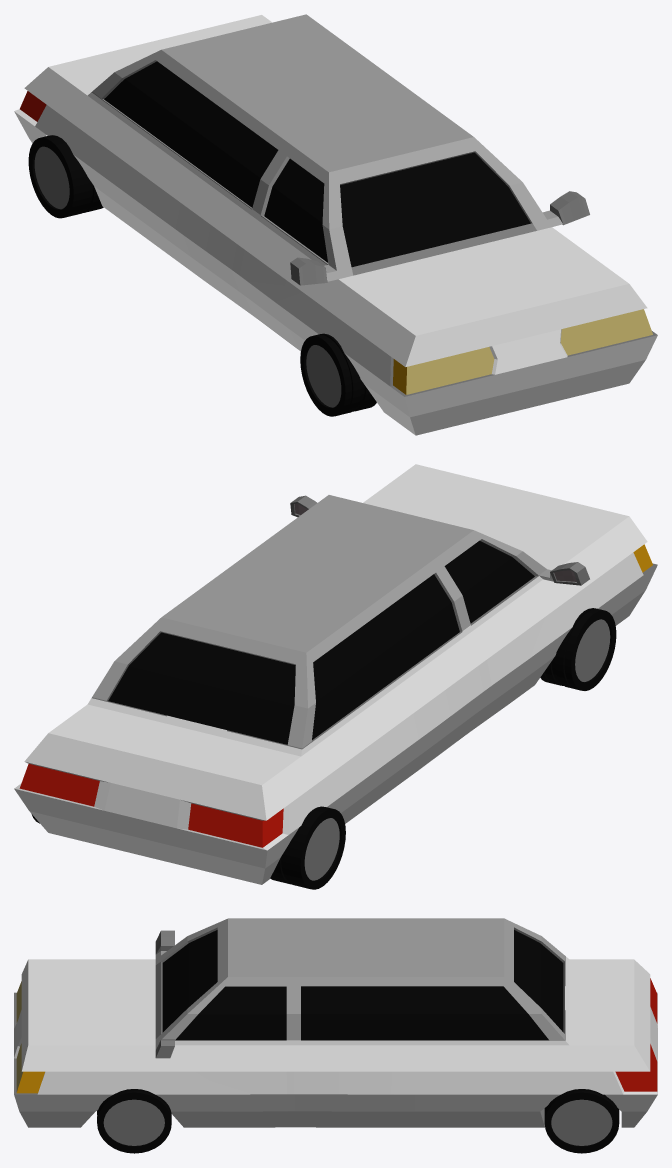
The model's file is limo.glb.
3 renders of one model, top to bottom at view 1: azimuth 30°, elevation 25°; view 2: azimuth 150°, elevation 25°; view 3: azimuth 270°, elevation 25°, orthographic. The views are drawn at different scales.
Visible parts, largest first — view 1: Cube.002, Cylinder.006, Cylinder.005, Cylinder.001; view 2: Cube.002, Cylinder.006, Cylinder.005; view 3: Cube.002, Cylinder.004, Cylinder.007.
Part boxes in pixels (x1,y1,x2,y2): Cube.002: [14, 14, 657, 435]; Cylinder.006: [300, 333, 376, 416]; Cylinder.005: [28, 135, 102, 218]; Cylinder.001: [45, 135, 103, 216]; Cube.002: [14, 464, 657, 884]; Cylinder.006: [540, 608, 616, 690]; Cylinder.005: [270, 806, 345, 889]; Cube.002: [14, 918, 657, 1127]; Cylinder.004: [544, 1089, 619, 1153]; Cylinder.007: [97, 1089, 171, 1153].
Size of the model in its own units: 6.08 by 3.69 by 14.19.
